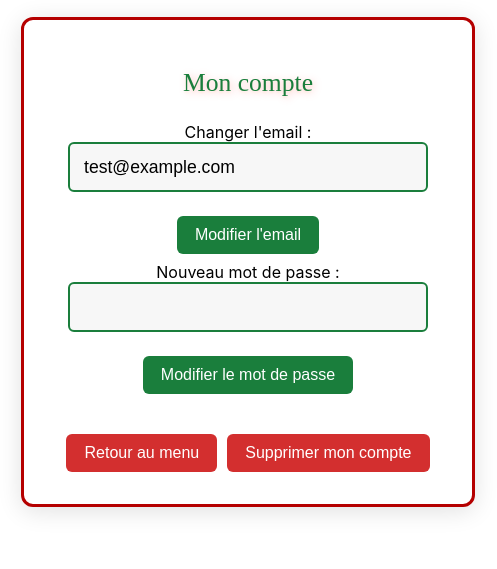
Test: Account component › modification d'email affiche un message de succès
Replace the text in the field showing "test@example.com" with "nouveau@example.com": (248,167) [68,142,428,192]
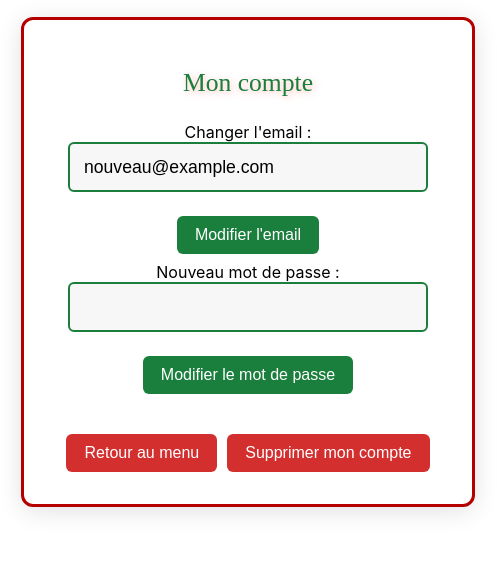
Click the button "Modifier l'email": (248,235) [177,216,319,254]
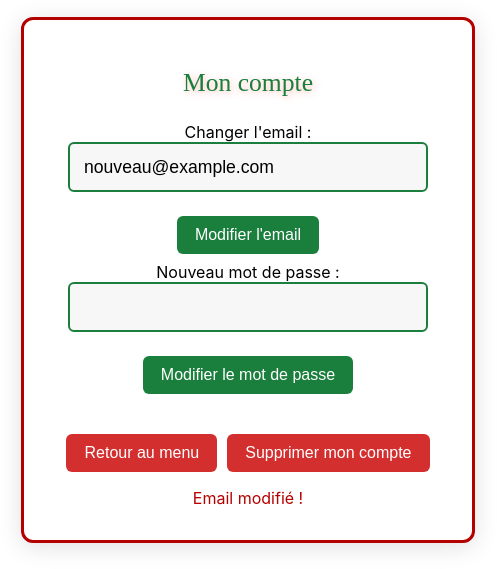
Check: the text "Email modifié !" is shown, box [193,488,303,508]
